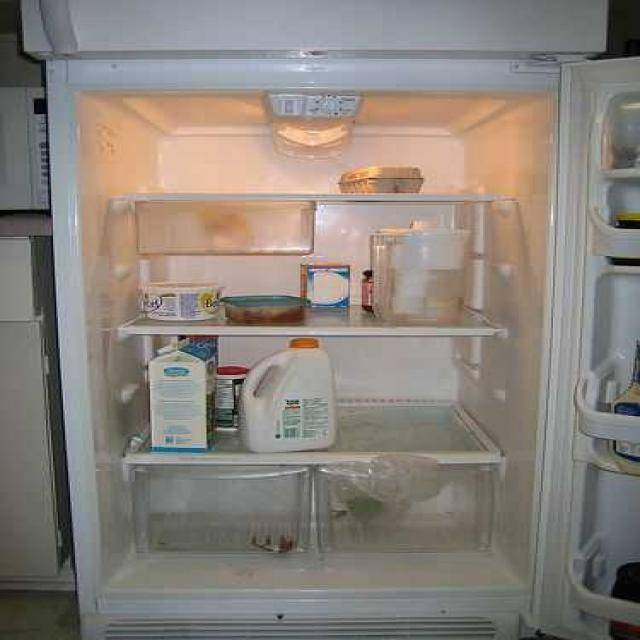refrigerator: (39, 51, 640, 638)
